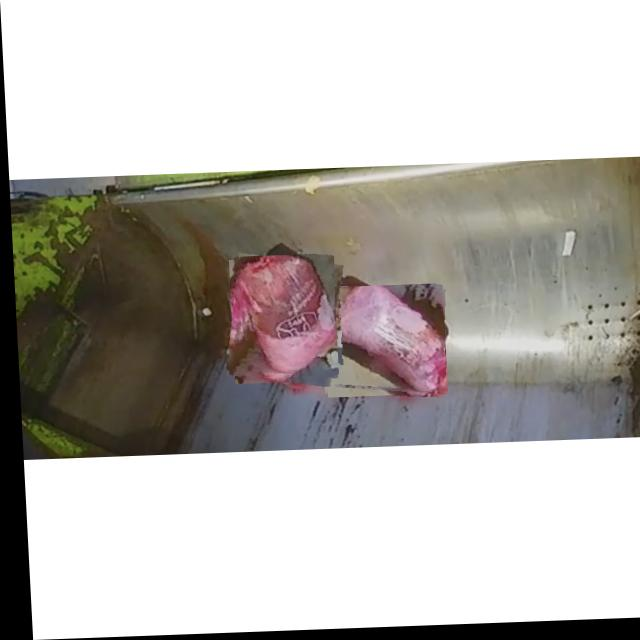other_trashbag: (324, 289, 441, 397), (234, 258, 332, 378)
